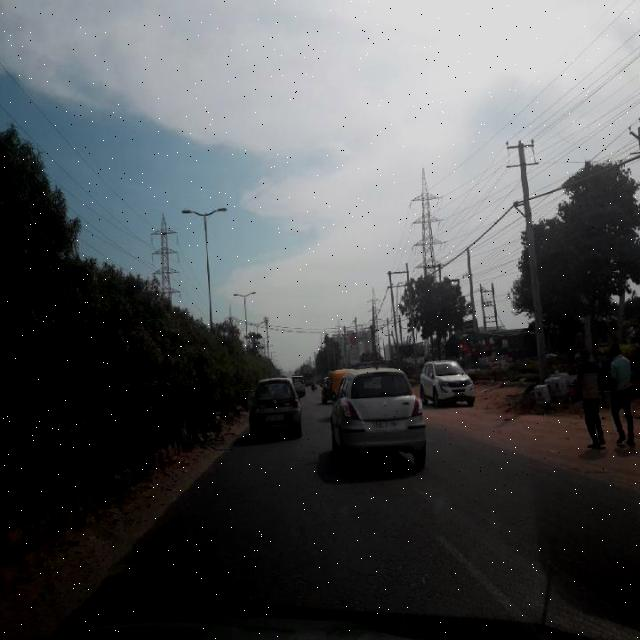D20: (122, 474, 638, 612)
D44: (436, 522, 536, 628)
